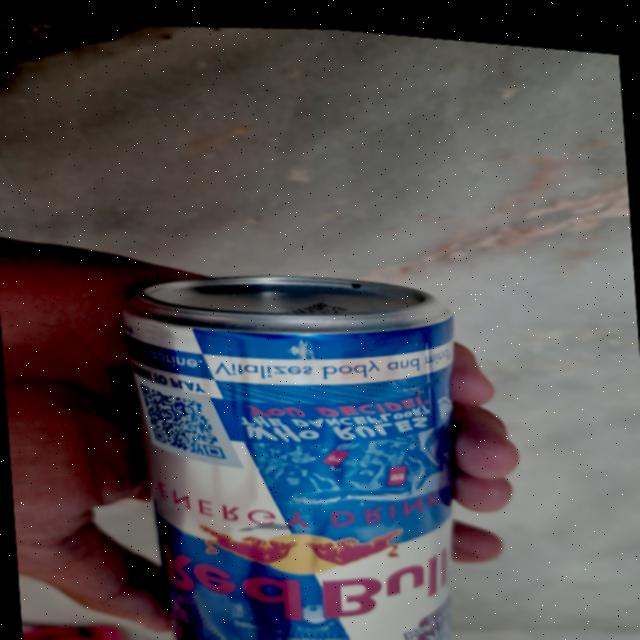Redbull DanceYourStyle: (108, 247, 493, 640)
